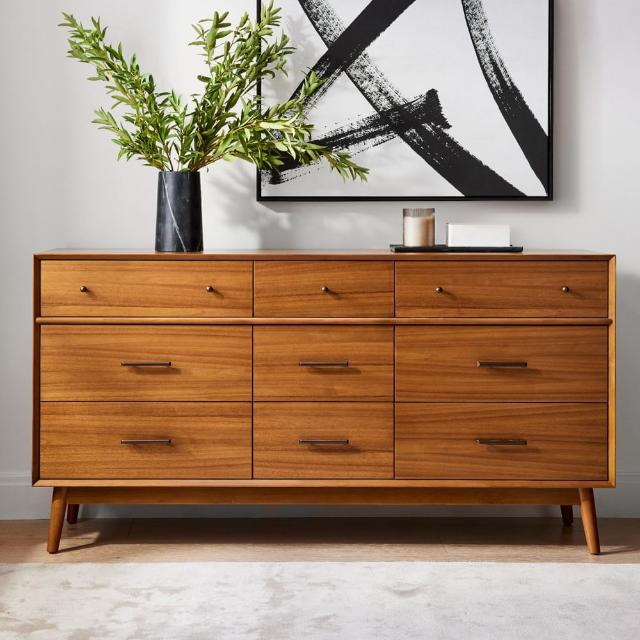dresser: (31, 244, 617, 557)
